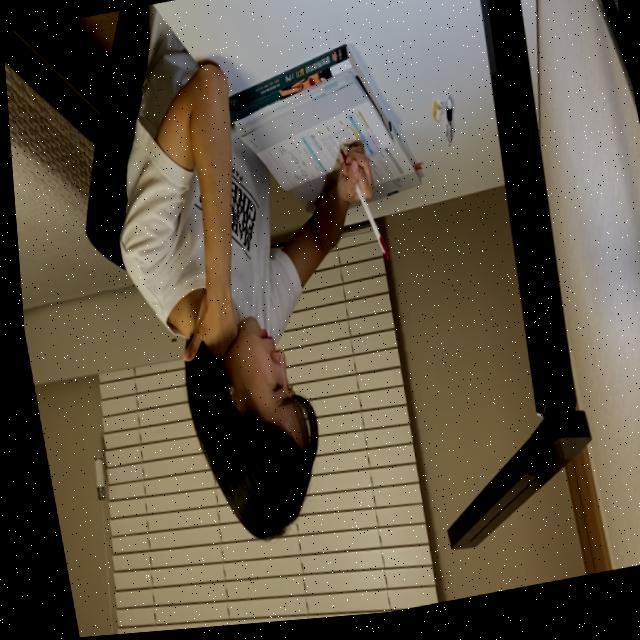studying-person: (76, 0, 476, 570)
